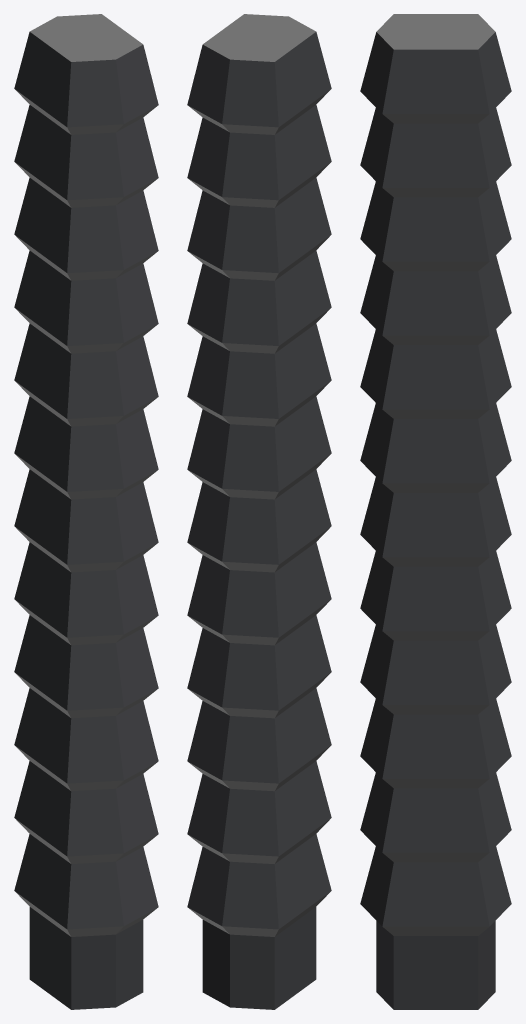
The model's file is TubePiece_01.glb.
3 renders of one model, left to right at view 1: azimuth 30°, elevation 25°; view 2: azimuth 150°, elevation 25°; view 3: azimuth 270°, elevation 25°, orthographic.
Parts seen in each view (by area): view 1: TubePiece_01; view 2: TubePiece_01; view 3: TubePiece_01.
Boxes of the visible parts, left/top/right/bottom form: TubePiece_01: left=14, top=14, right=158, bottom=1009; TubePiece_01: left=187, top=14, right=331, bottom=1009; TubePiece_01: left=360, top=14, right=511, bottom=1009.
Size of what is drawn, in the model's own units: 0.3034 by 3 by 0.429.
Materials: 1 (1 with a texture image).
